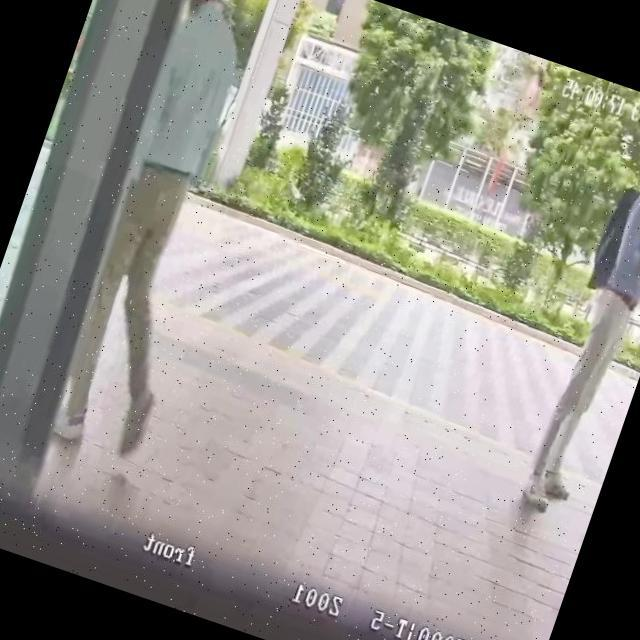person: (32, 0, 302, 466), (518, 128, 640, 525)
